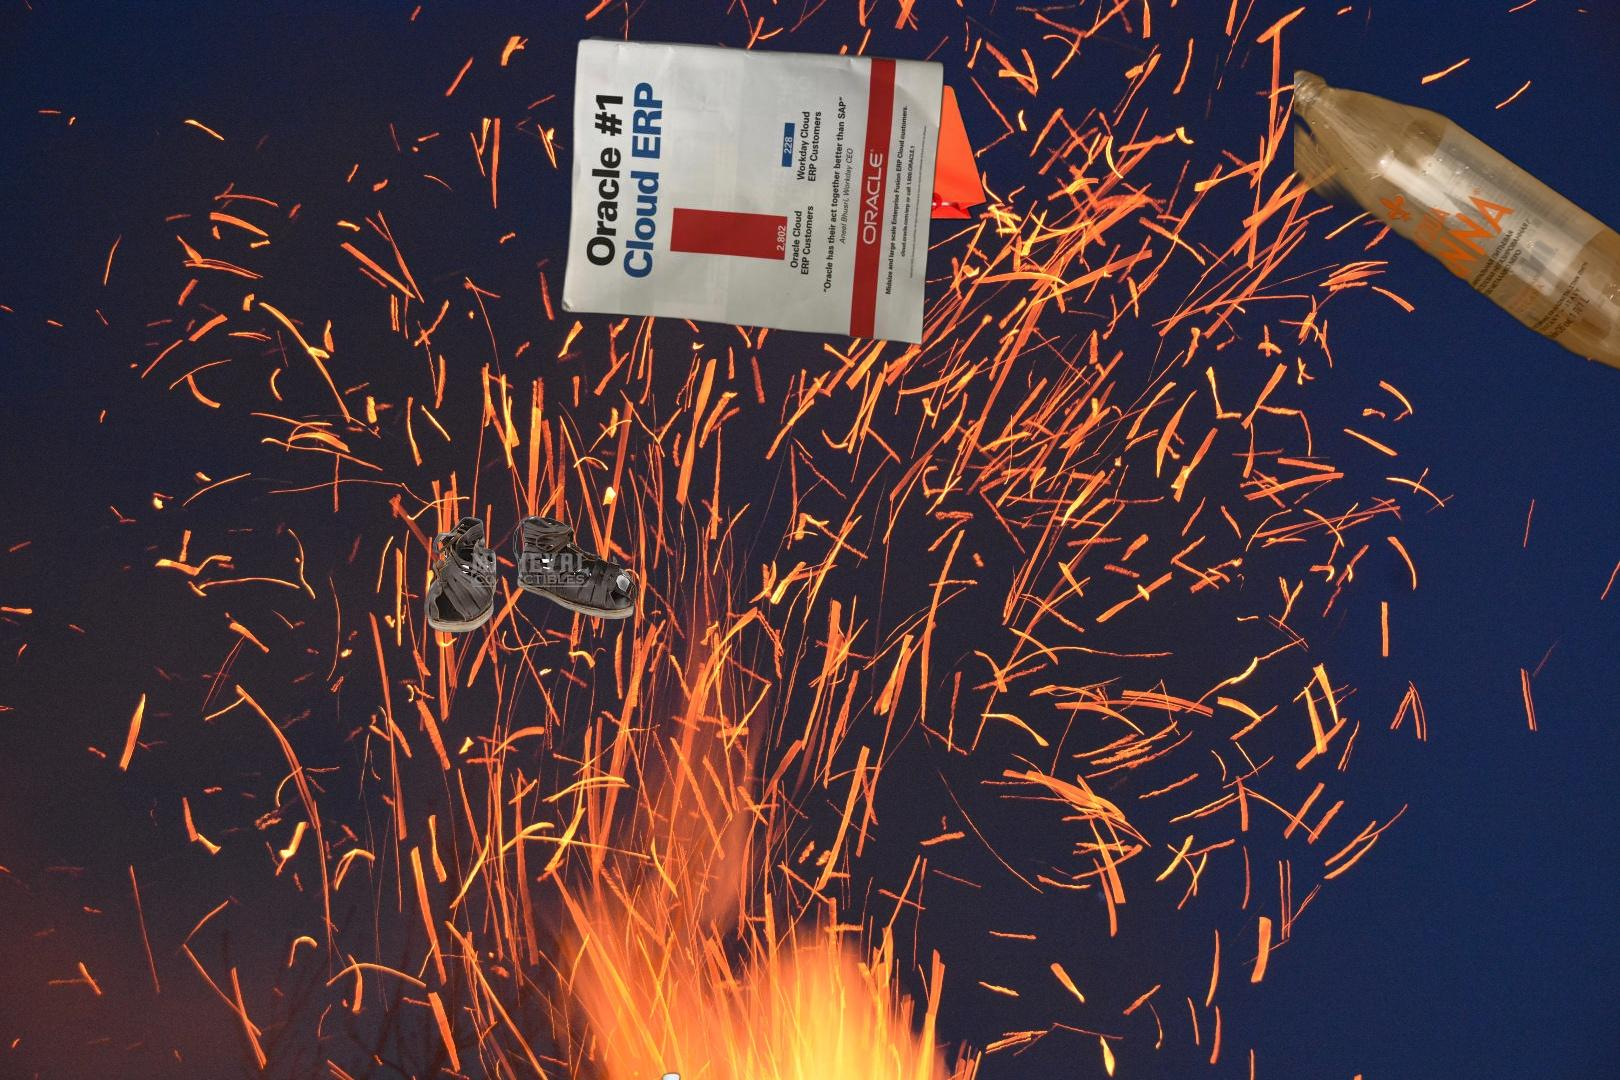paper: (557, 33, 950, 350)
paper-bag: (771, 77, 990, 303)
plastic-bag: (652, 67, 765, 166)
plastic-bottles: (1295, 64, 1620, 423), (627, 1069, 747, 1080)
shoes: (421, 513, 640, 635)
